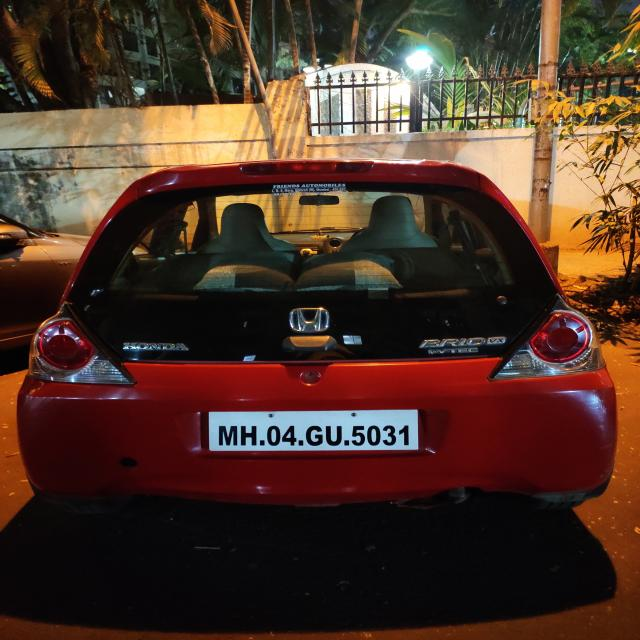Number-Plate: (204, 411, 428, 454)
